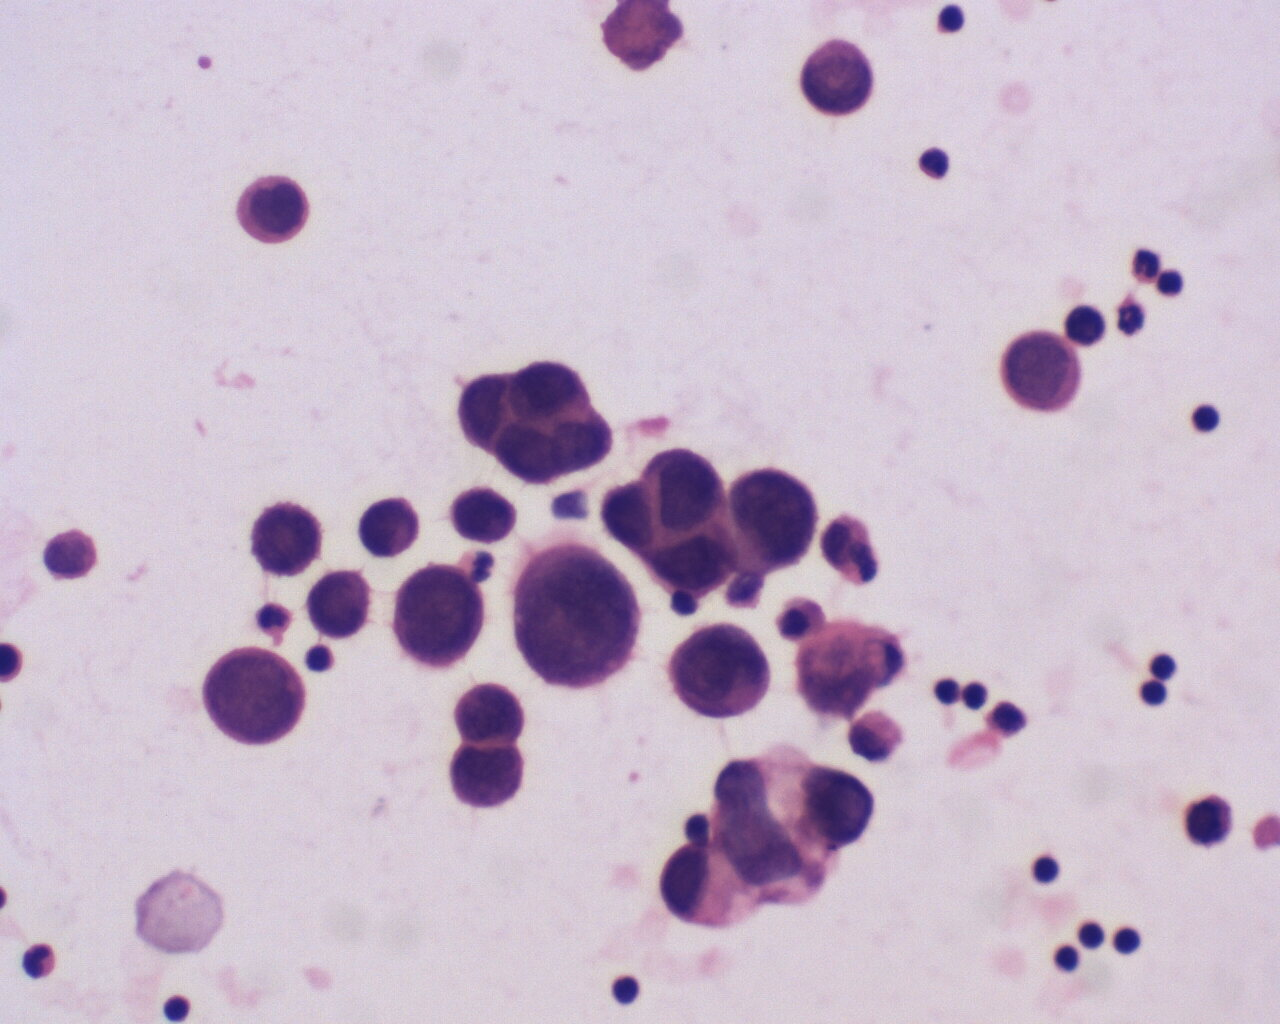ab: (507, 542, 651, 689), (197, 639, 309, 753), (665, 616, 775, 721), (387, 561, 491, 667), (730, 463, 819, 577), (636, 448, 731, 540), (783, 760, 879, 851), (999, 329, 1088, 417), (800, 34, 874, 120), (232, 170, 312, 248), (506, 359, 591, 432), (445, 742, 529, 813), (251, 498, 324, 579), (451, 682, 529, 750), (308, 565, 372, 637), (356, 496, 426, 560), (446, 486, 518, 546), (40, 522, 101, 585), (1184, 788, 1235, 853)
lymph: (606, 967, 649, 1010), (920, 135, 956, 181), (1138, 673, 1177, 715), (1191, 397, 1229, 437), (1111, 920, 1146, 956), (1029, 855, 1064, 888), (1054, 940, 1088, 973)
neutro: (19, 938, 68, 985), (1128, 243, 1167, 286), (1112, 296, 1149, 336)
